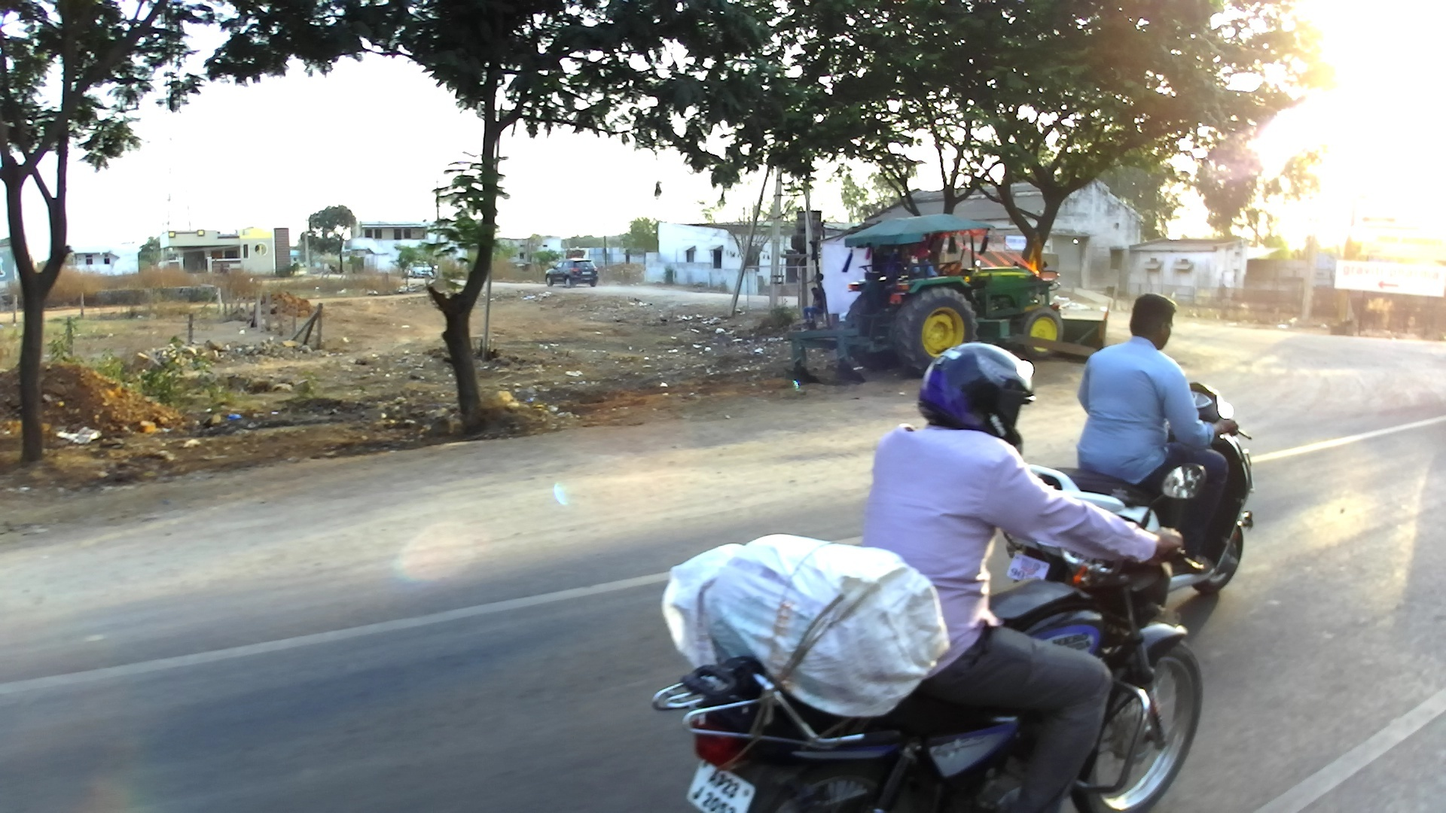car: (544, 258, 599, 288), (404, 259, 438, 282)
motorcycle: (633, 461, 1205, 813), (999, 382, 1254, 607)
person: (801, 285, 823, 330)
rider: (867, 341, 1187, 811), (1077, 294, 1240, 582)
vehicle fallback: (786, 215, 1110, 400)
